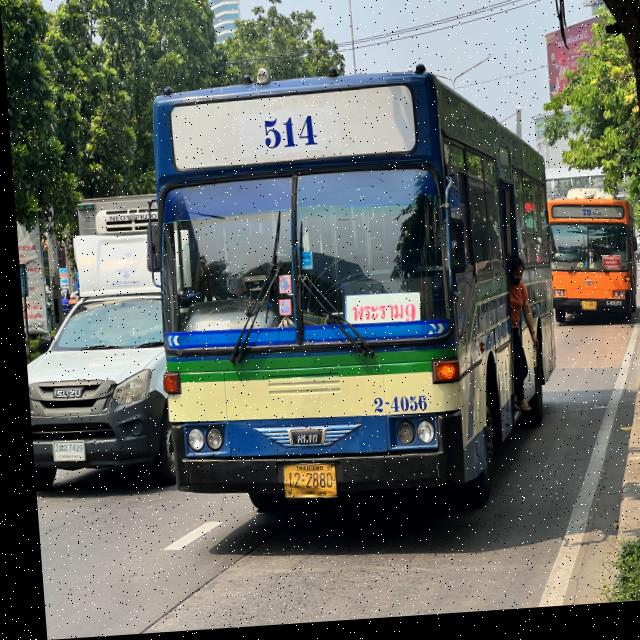BMTA-bus: (130, 51, 565, 534), (541, 190, 638, 337)
Bus-Line-Number: (235, 112, 340, 160), (576, 215, 599, 227)
Destination-Sign-Extra-Bus: (340, 298, 416, 331), (598, 262, 618, 278)
